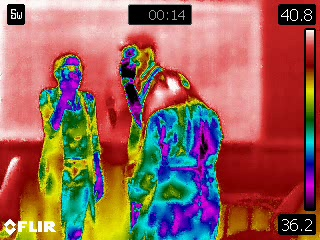human: (147, 68, 225, 240), (38, 51, 106, 240), (117, 34, 164, 132)
